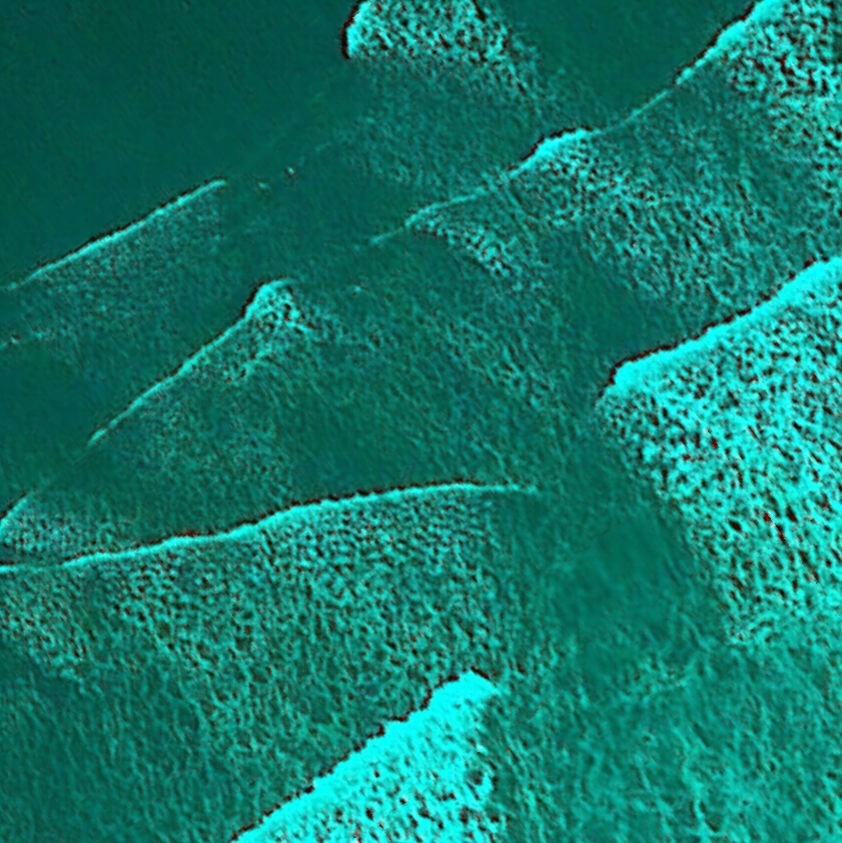rip_current: (218, 124, 792, 682)
